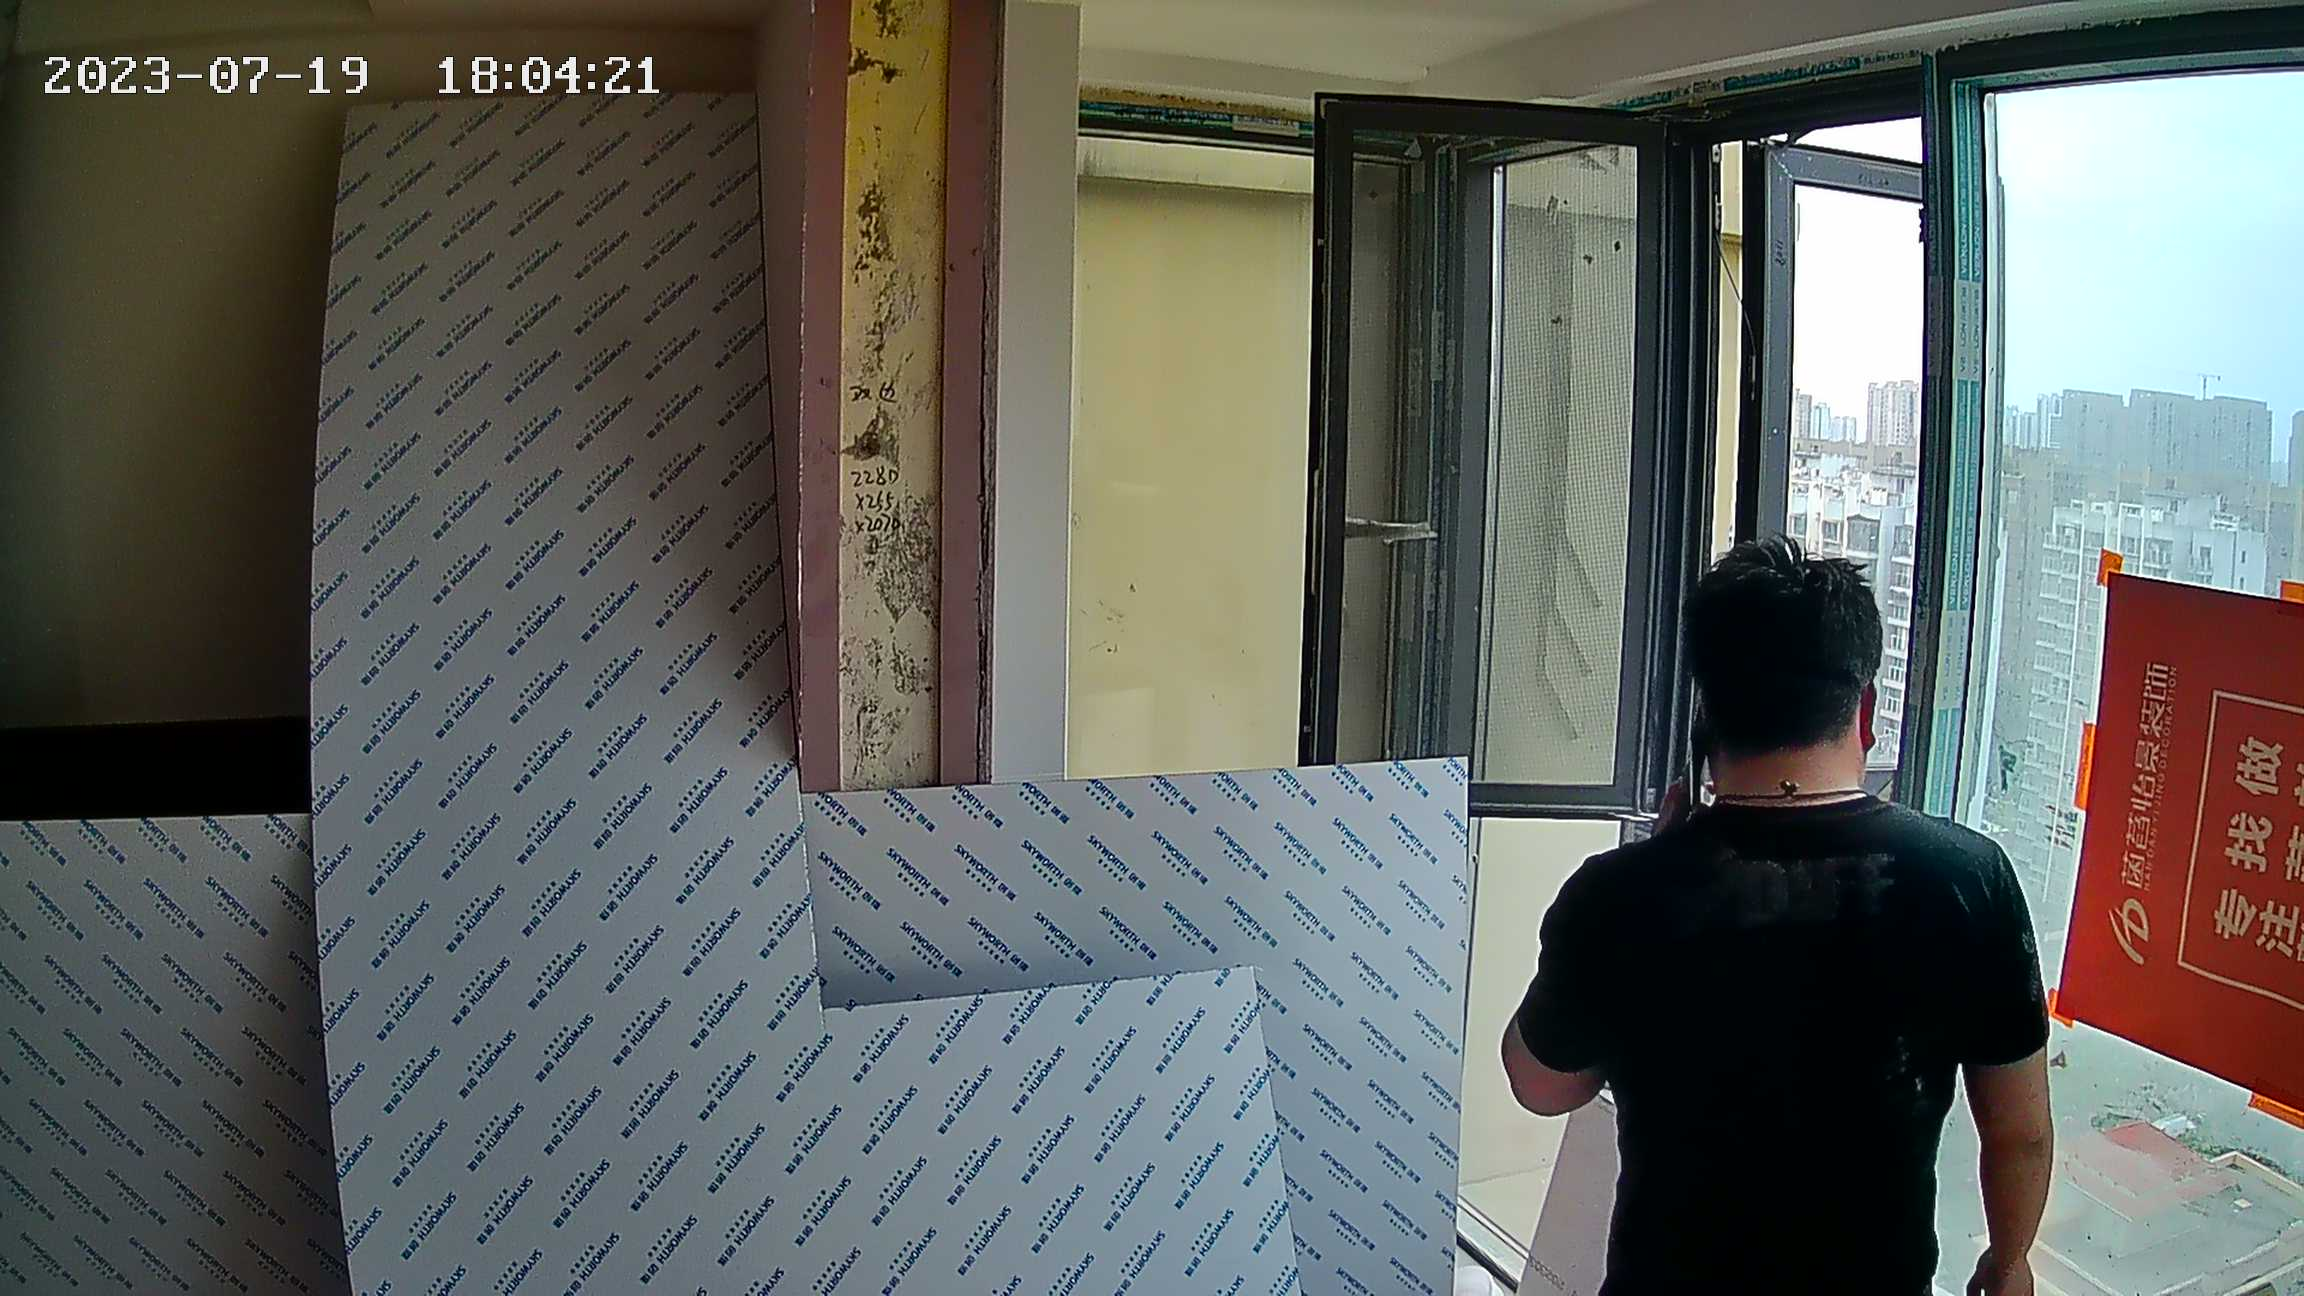people: (1512, 547, 2055, 1296)
window: (1089, 123, 2304, 1295)
